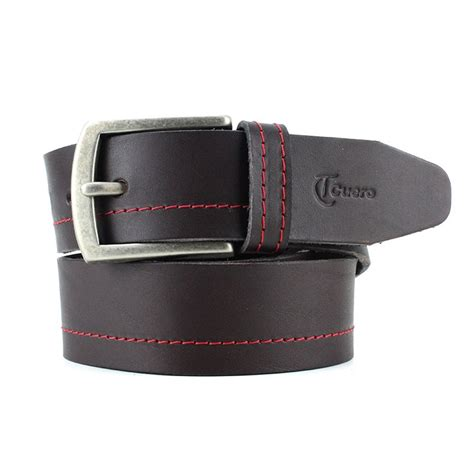cuero: (44, 121, 452, 377)
